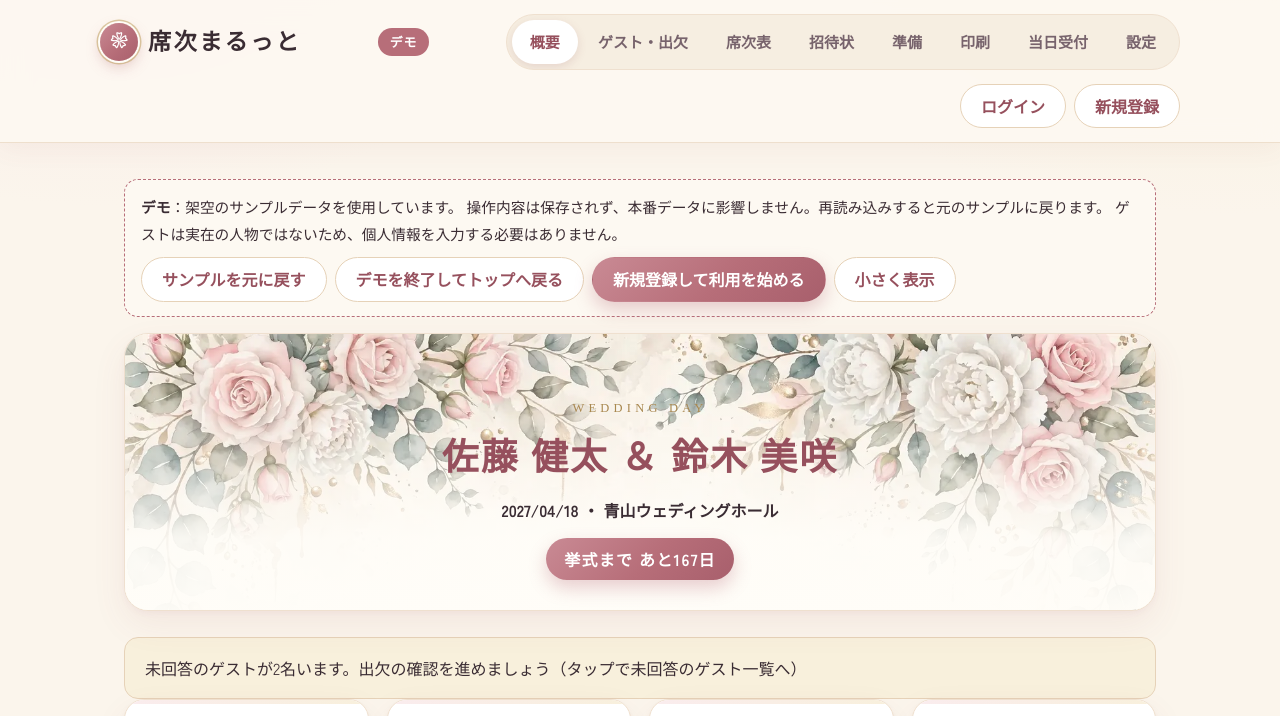
Test: デモのゲスト画面プレビュー（F-1） › 見本ボタンから回答ページが開き、招待状・席の案内・見本チップが表示される
Click the tab "招待状". click: coordinates (831, 42)
box: [791,20,872,64]
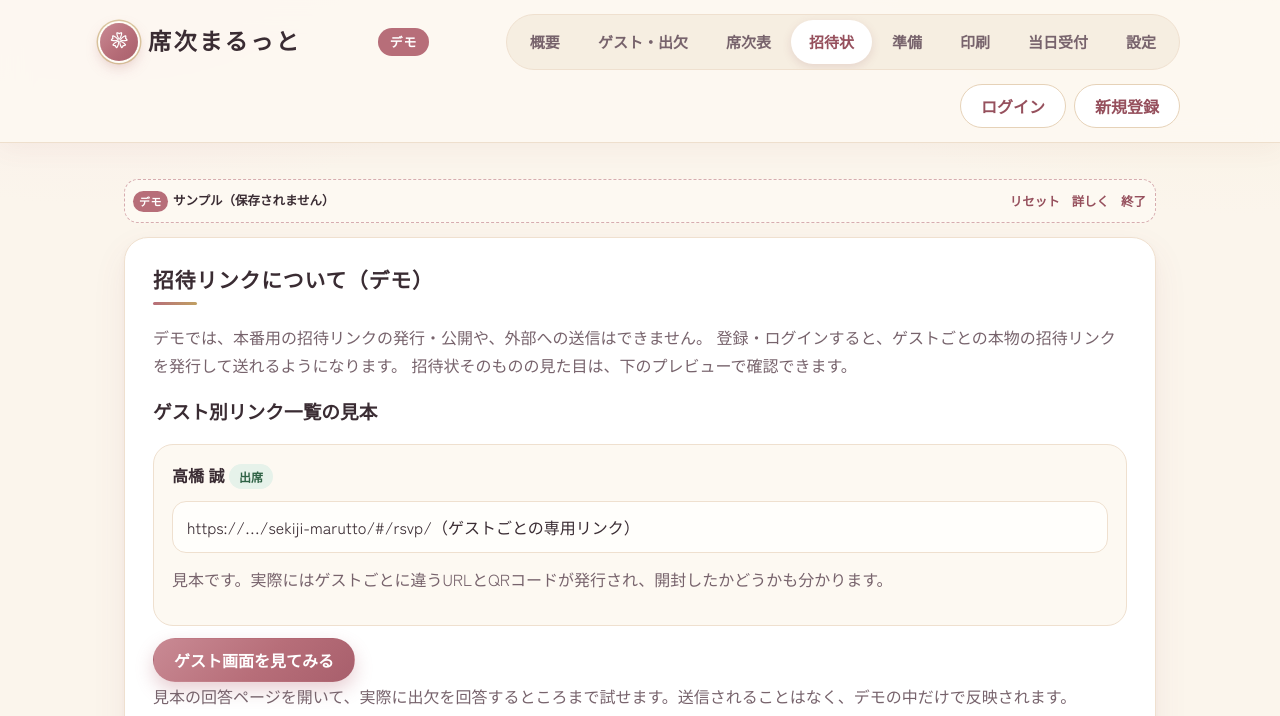
Click the button "ゲスト画面を見てみる". click: coordinates (254, 660)
box: [153,638,355,682]
(page scrolled)
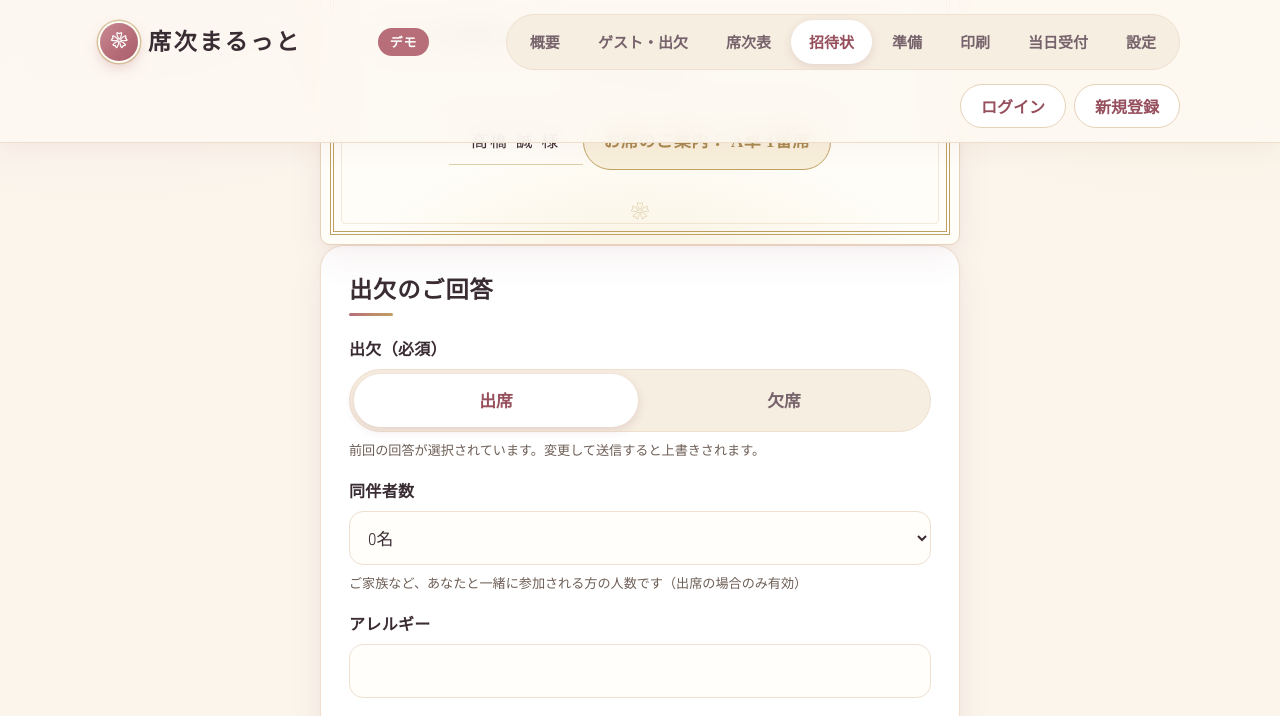
expect the text "高橋 誠 様" is shown: met, box [449,118,583,165]
expect the text "お席のご案内： A卓 1番席" is shown: met, box [583,114,831,170]
